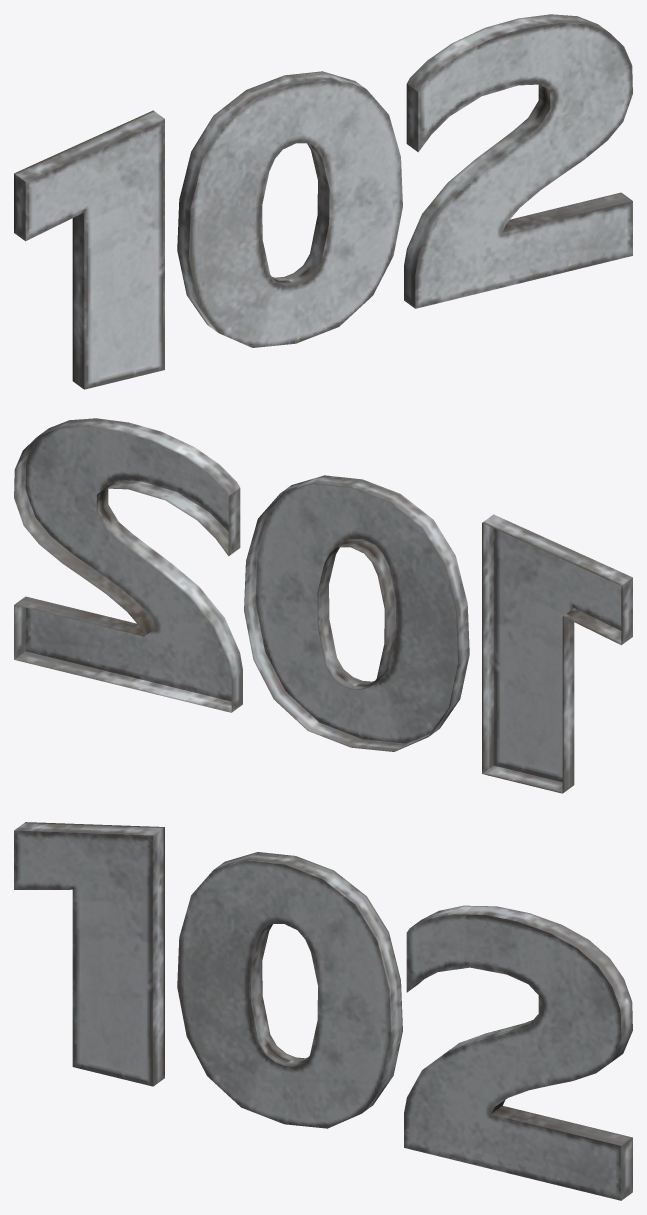
The model's file is categorySign102.FBX.
3 views of the same model, one above another, from view 1: azimuth 30°, elevation 25°; view 2: azimuth 150°, elevation 25°; view 3: azimuth 330°, elevation 25° (orthographic).
Parts seen in each view (by area): view 1: SM_CategorySign102; view 2: SM_CategorySign102; view 3: SM_CategorySign102.
Boxes of the visible parts, x1,y1,x2,y2 form: SM_CategorySign102: [14, 14, 632, 389]; SM_CategorySign102: [14, 418, 632, 793]; SM_CategorySign102: [14, 822, 632, 1200].
Bounding box in the file's own units: 6.07 × 2.48 × 0.2.
1 material, 1 textured.
